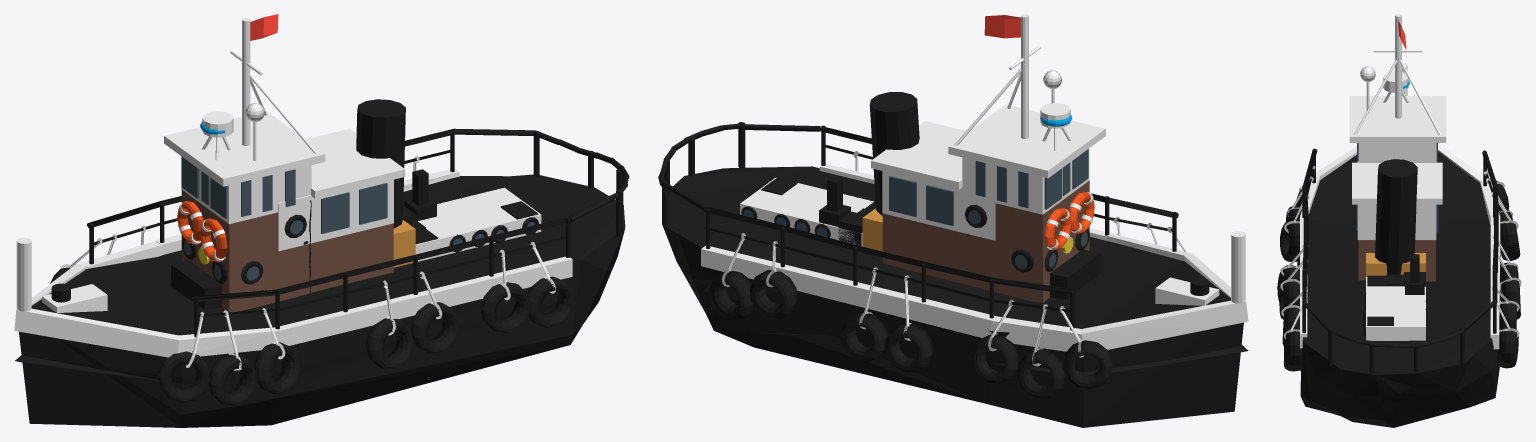
The model's file is boat.glb.
The picture shows the model from 3 angles, left to right: view 1: azimuth 30°, elevation 25°; view 2: azimuth 150°, elevation 25°; view 3: azimuth 270°, elevation 25°; orthographic projection. The views are drawn at different scales.
Parts seen in each view (by area): view 1: group986023678, group1483103472, group1630688789, group1688934664, group1070107753, group1491409755, group940573650, group727606289, group1545471277, group1935290195, group1961124225, group1026484787 (+28 smaller); view 2: group986023678, group1483103472, group1646897682, group1630688789, group1207921442, group940573650, group1491409755, group727606289, group1935290195, group1545471277, group1073760931, group1026484787 (+28 smaller); view 3: group986023678, group727606289, group1630688789, group1491409755, group1026484787, group1935290195, group1545471277, group940573650, group1646897682, group1073760931, group838769383, group302158798 (+23 smaller).
Boxes of the visible parts, left/top/right/bottom form: group986023678: left=19, top=174, right=625, bottom=427; group1483103472: left=181, top=190, right=311, bottom=312; group1630688789: left=164, top=111, right=325, bottom=186; group1688934664: left=278, top=256, right=572, bottom=345; group1070107753: left=14, top=308, right=179, bottom=357; group1491409755: left=306, top=128, right=405, bottom=198; group940573650: left=311, top=223, right=393, bottom=292; group727606289: left=356, top=99, right=405, bottom=228; group1545471277: left=278, top=179, right=393, bottom=251; group1935290195: left=181, top=156, right=311, bottom=224; group1961124225: left=192, top=216, right=567, bottom=302; group1026484787: left=442, top=187, right=541, bottom=245; group986023678: left=662, top=166, right=1243, bottom=427; group1483103472: left=963, top=180, right=1089, bottom=302; group1646897682: left=701, top=245, right=996, bottom=337; group1630688789: left=948, top=104, right=1105, bottom=178; group1207921442: left=1080, top=300, right=1248, bottom=349; group940573650: left=882, top=213, right=963, bottom=283; group1491409755: left=871, top=121, right=965, bottom=189; group727606289: left=869, top=92, right=919, bottom=215; group1935290195: left=962, top=148, right=1089, bottom=214; group1545471277: left=882, top=171, right=995, bottom=240; group1073760931: left=704, top=207, right=1075, bottom=294; group1026484787: left=740, top=177, right=826, bottom=228; group986023678: left=1300, top=151, right=1500, bottom=427; group727606289: left=1375, top=159, right=1417, bottom=275; group1630688789: left=1349, top=96, right=1446, bottom=142; group1491409755: left=1352, top=162, right=1442, bottom=204; group1026484787: left=1366, top=301, right=1425, bottom=340; group1935290195: left=1358, top=143, right=1436, bottom=162; group1545471277: left=1357, top=161, right=1436, bottom=239; group940573650: left=1358, top=240, right=1435, bottom=281; group1646897682: left=1490, top=216, right=1500, bottom=349; group1073760931: left=1482, top=150, right=1498, bottom=302; group838769383: left=1366, top=277, right=1425, bottom=301; group302158798: left=1496, top=327, right=1518, bottom=368.
Bounding box in the file's own units: 4.59 × 2.71 × 2.
